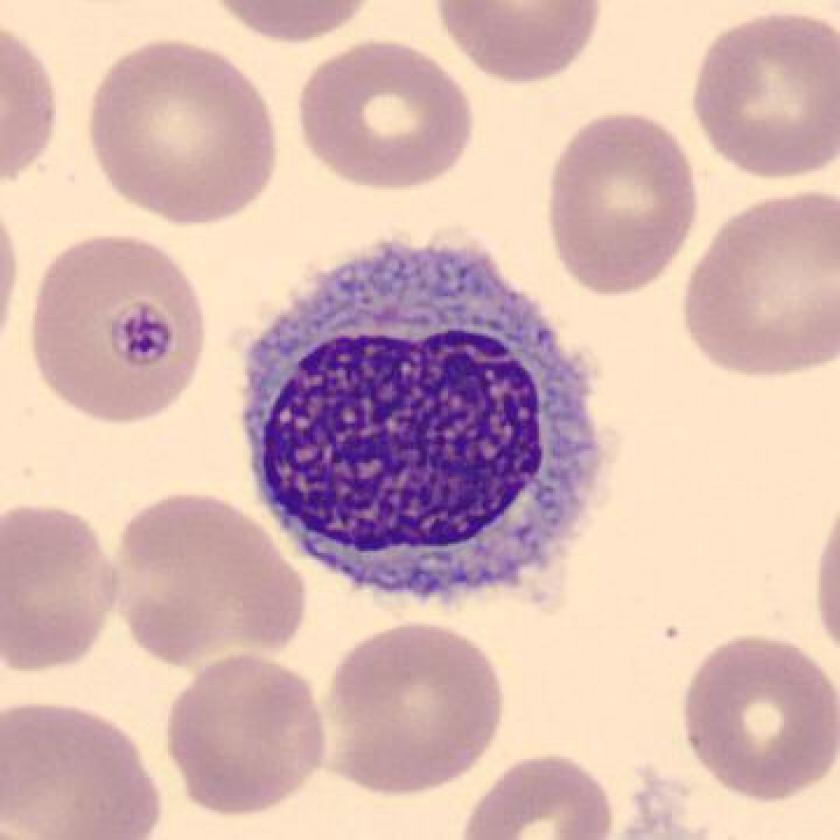monocyte: (218, 219, 617, 633)
